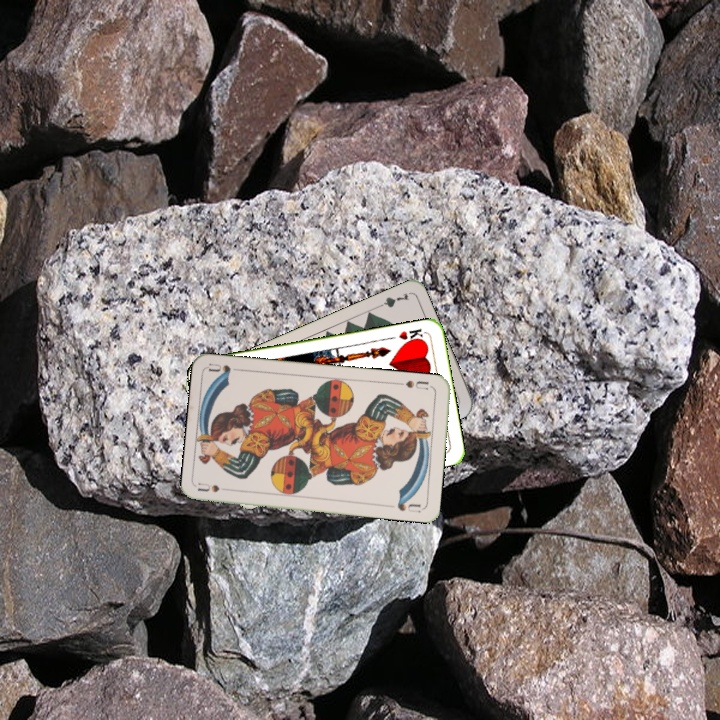G7: (372, 289, 412, 311)
HK: (395, 325, 428, 346)
SU: (394, 376, 431, 392), (195, 479, 222, 495)
